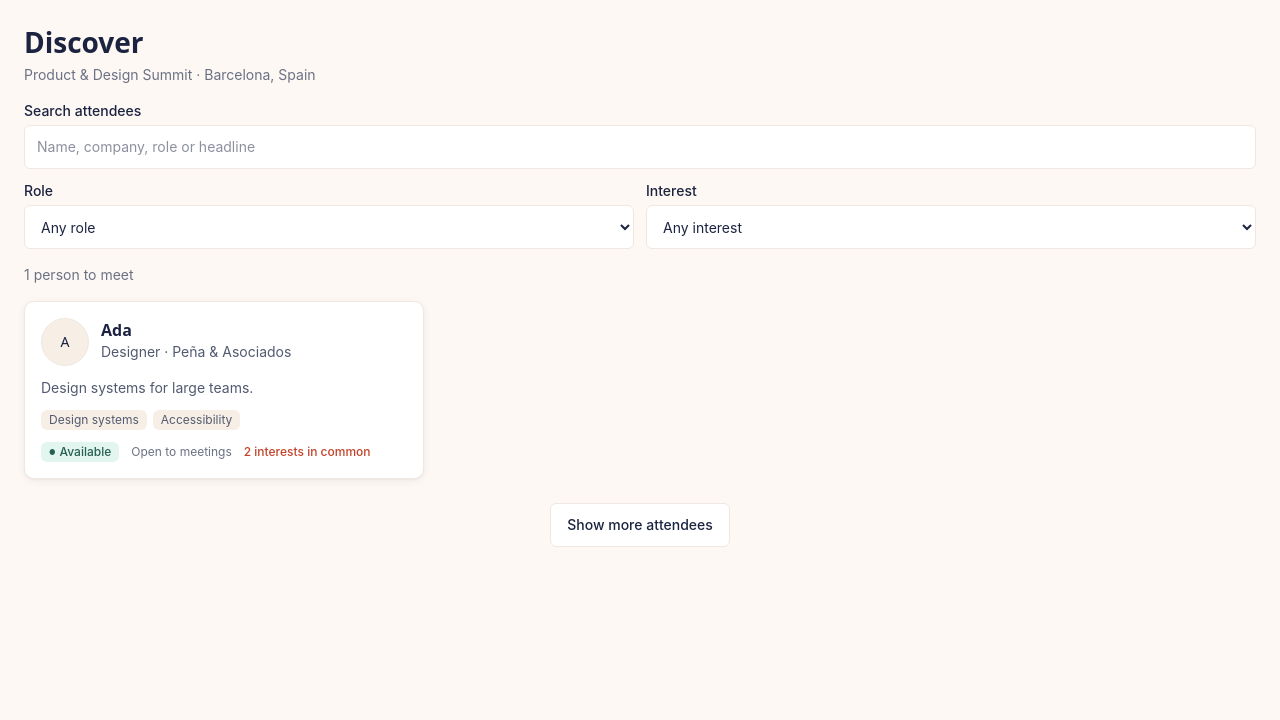
Discover: paging never shows the same person twice (FR-410a, SC-403a) › keeps what is already shown when a further page fails
Expected: the link "Ada" is shown, x1=101 y1=319 x2=132 y2=341
Click the button "Show more attendees" at (640, 525), box x1=550 y1=503 x2=730 y2=547
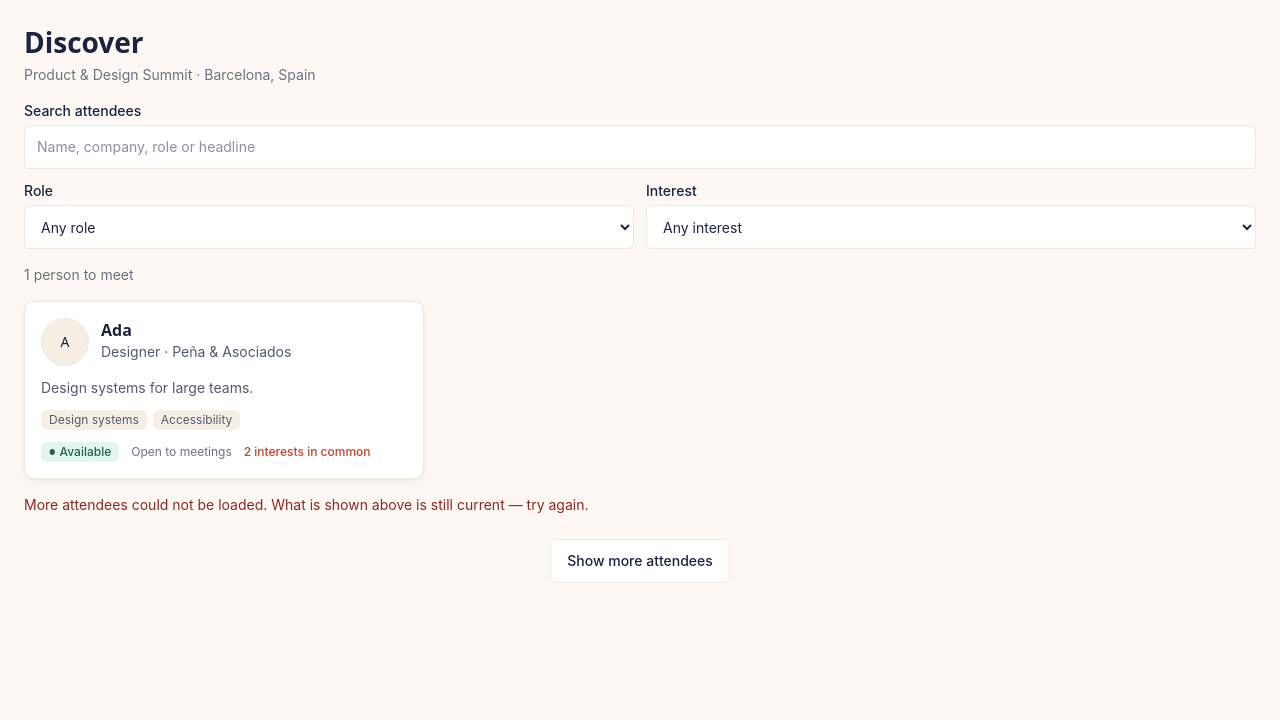
Expected: the link "Ada" is shown, x1=101 y1=319 x2=132 y2=341
Expected: the message shows "More attendees could not be loaded", x1=24 y1=496 x2=588 y2=513
